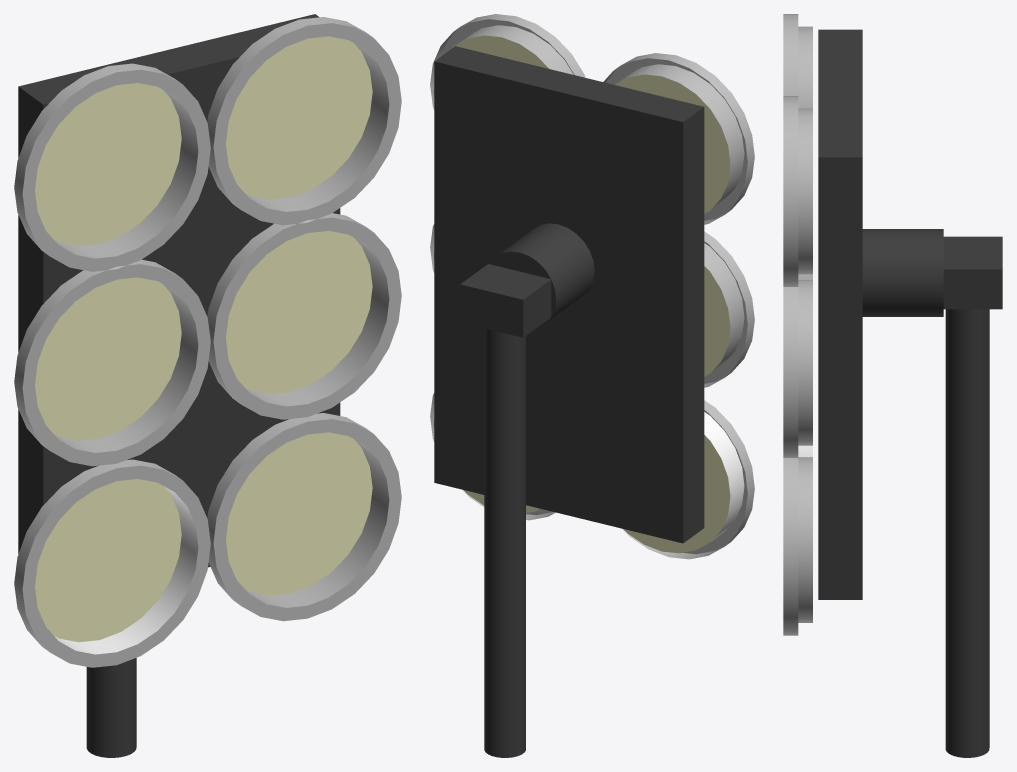
Rendered from light.fbx.
The picture shows the model from 3 angles, left to right: view 1: azimuth 30°, elevation 25°; view 2: azimuth 150°, elevation 25°; view 3: azimuth 270°, elevation 25°; orthographic projection. The views are drawn at different scales.
Visible parts, largest first — view 1: Model; view 2: Model; view 3: Model.
Part boxes in pixels (x1,y1,x2,y2): Model: [14, 14, 401, 757]; Model: [430, 14, 754, 757]; Model: [783, 14, 1002, 757].
Size of the model in its own units: 0.5236 by 1.02 by 0.2974.
